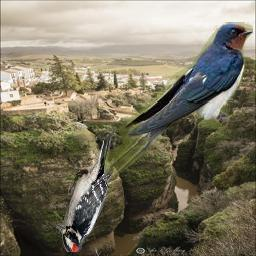Swallow: (105, 22, 254, 178)
Woodpecker: (56, 132, 115, 253)
